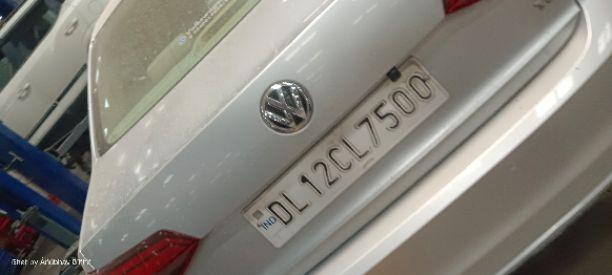license_plate: (238, 0, 582, 250), (239, 54, 450, 249)
